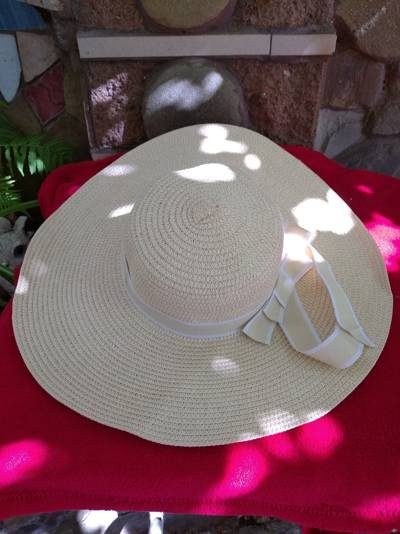Hat: (7, 107, 387, 442)
